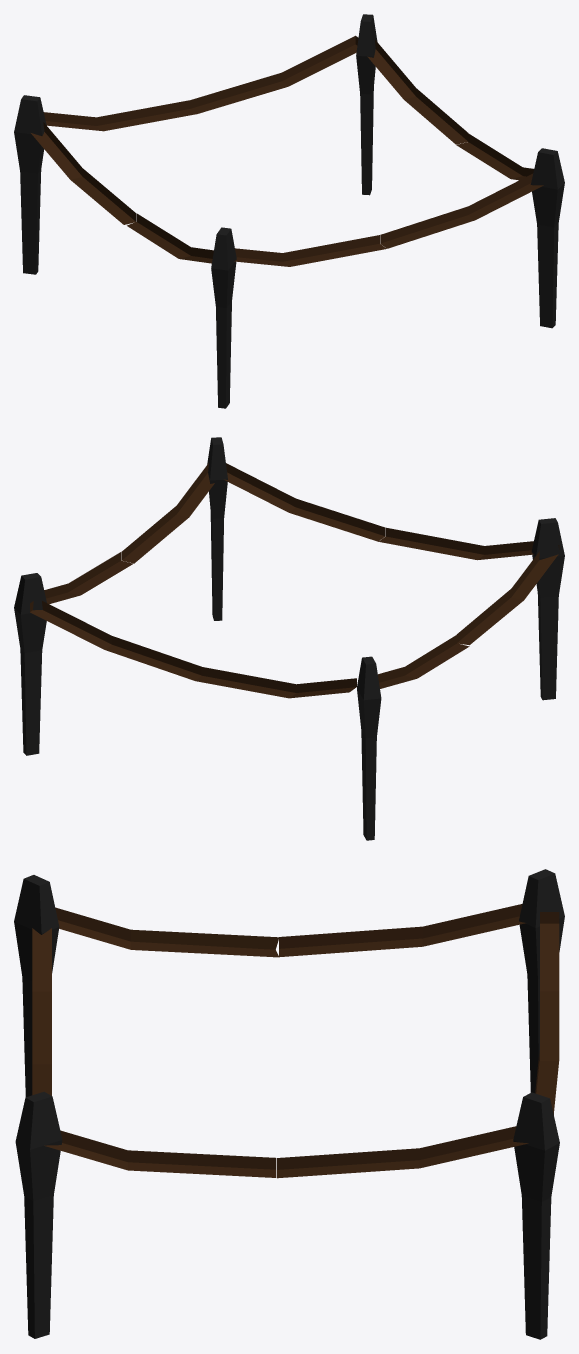
The model's file is construction_small.obj.
3 views of the same model, one above another, from view 1: azimuth 30°, elevation 25°; view 2: azimuth 150°, elevation 25°; view 3: azimuth 270°, elevation 25° (orthographic). The views are drawn at different scales.
Visible parts, largest first — view 1: Construction_Site_ResourceHut_ResourceHut_PointyTower_Cylinder.0; view 2: Construction_Site_ResourceHut_ResourceHut_PointyTower_Cylinder.0; view 3: Construction_Site_ResourceHut_ResourceHut_PointyTower_Cylinder.0.
Part boxes in pixels (x1=…): Construction_Site_ResourceHut_ResourceHut_PointyTower_Cylinder.0: x1=14, y1=14, x2=564, y2=408; Construction_Site_ResourceHut_ResourceHut_PointyTower_Cylinder.0: x1=14, y1=437, x2=564, y2=840; Construction_Site_ResourceHut_ResourceHut_PointyTower_Cylinder.0: x1=14, y1=869, x2=564, y2=1339.
Bounding box in the file's own units: 1 × 0.4594 × 0.9641.
